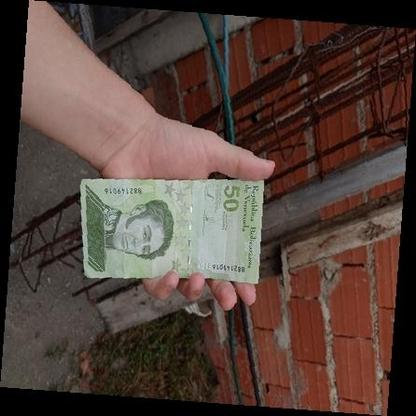fifty-front-vef: (80, 179, 263, 284)
